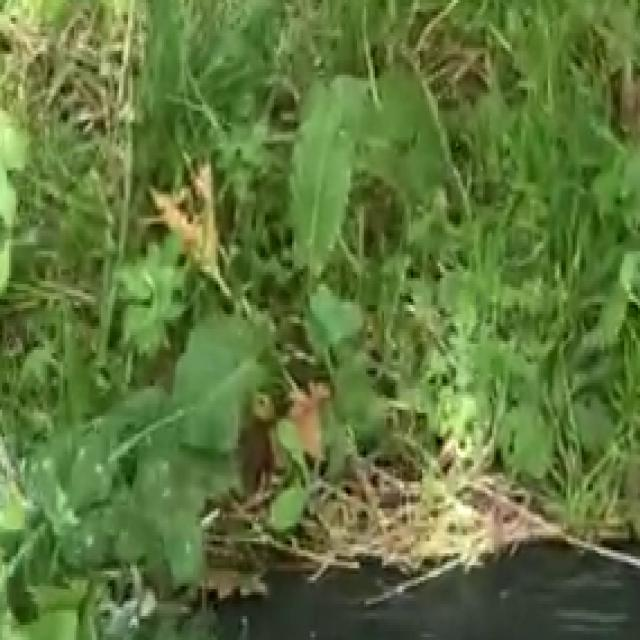organic waste: (18, 248, 308, 640), (249, 9, 528, 347)
